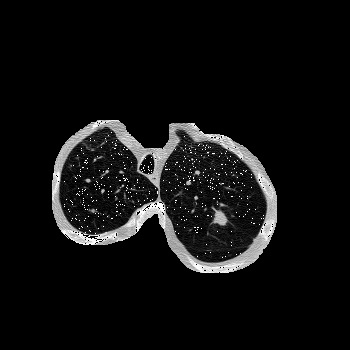PN: (87, 179, 91, 183)
